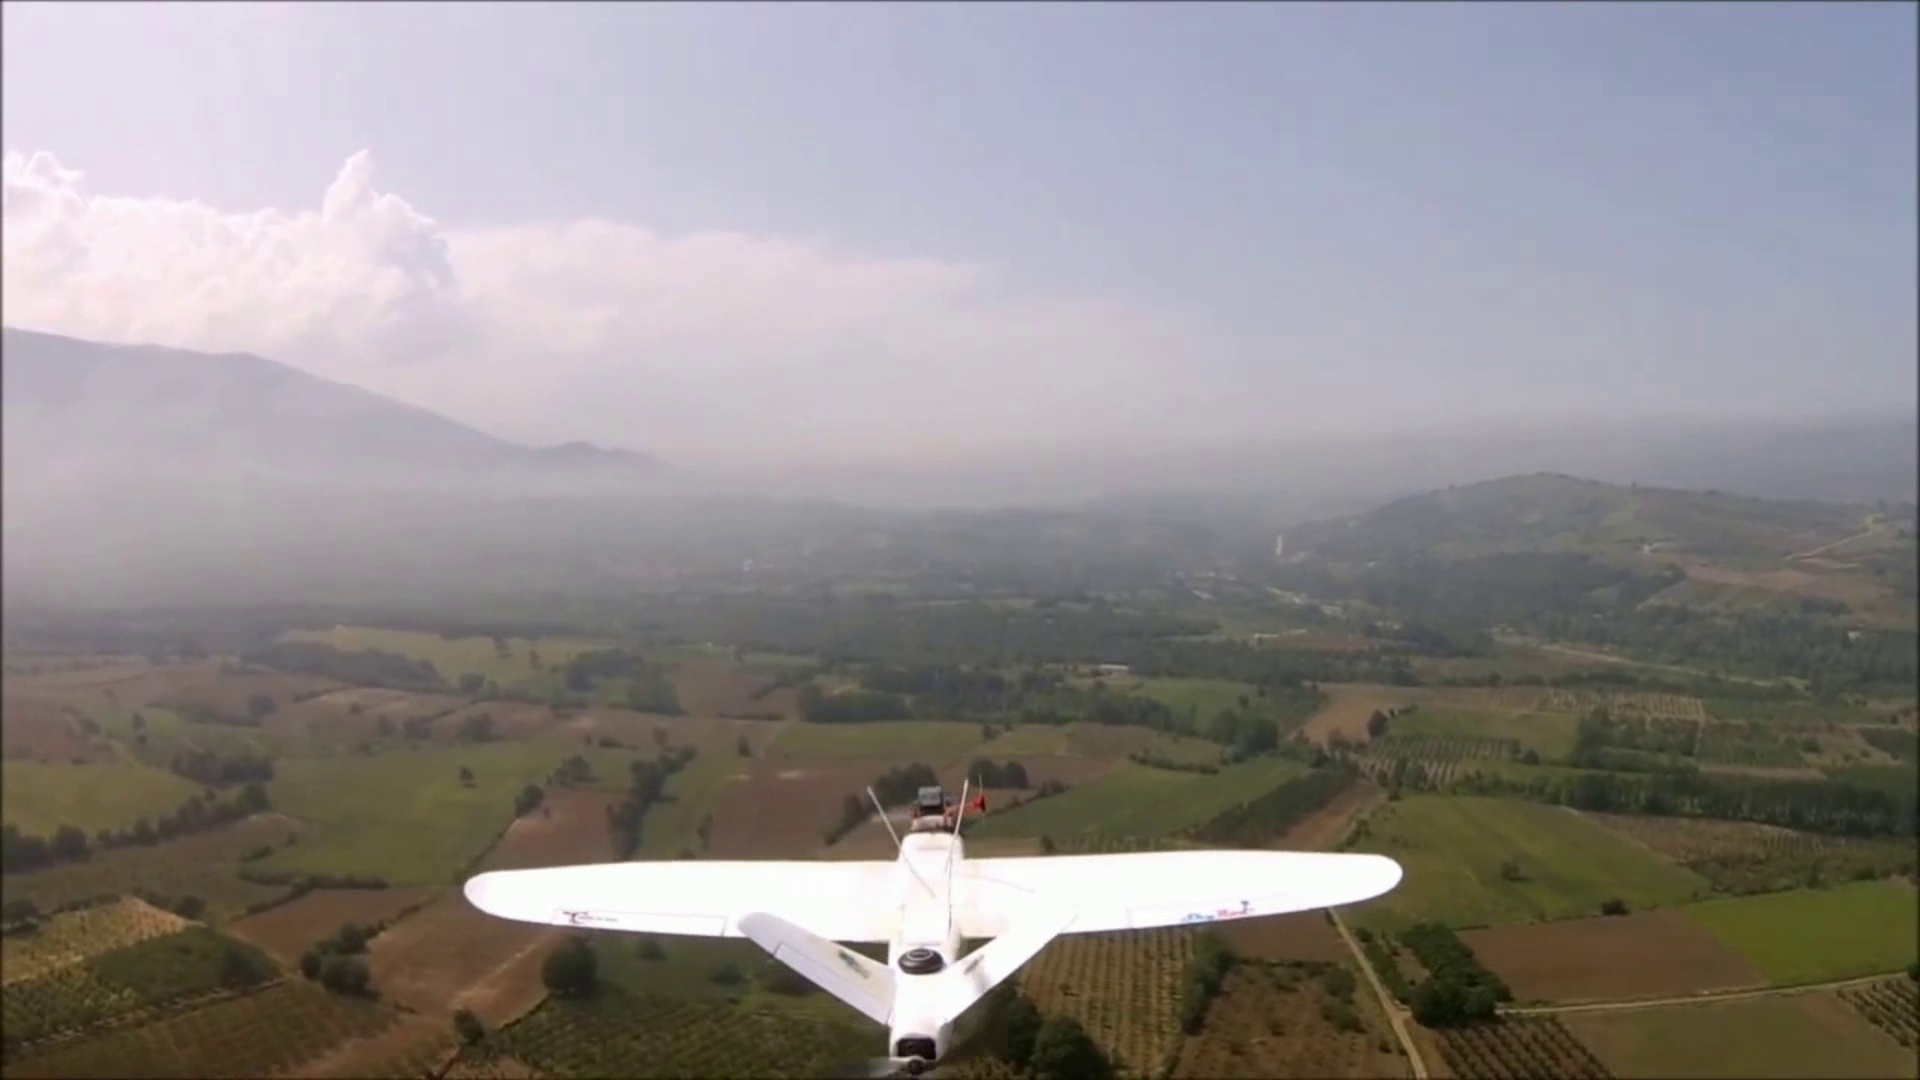airplane: (464, 766, 1404, 1069)
